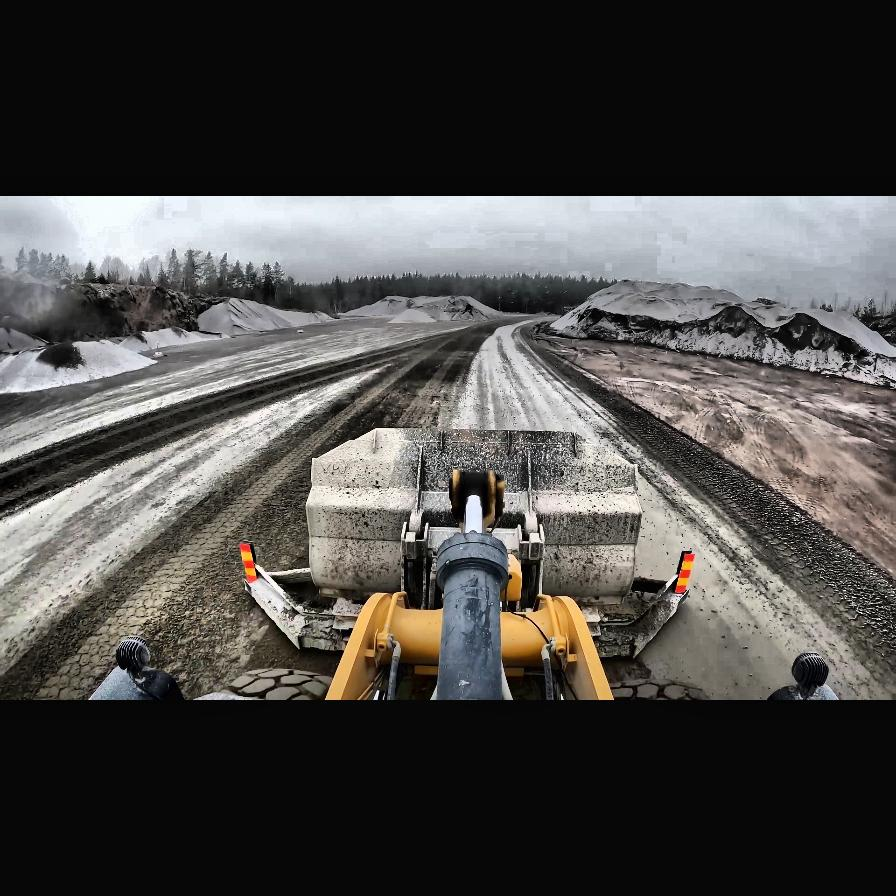anchor: (451, 468, 503, 532)
pile of gravel: (545, 279, 893, 386), (1, 338, 159, 393), (196, 298, 322, 336), (350, 294, 516, 322), (0, 326, 48, 354), (344, 297, 406, 317), (388, 309, 434, 323), (406, 295, 458, 307)
